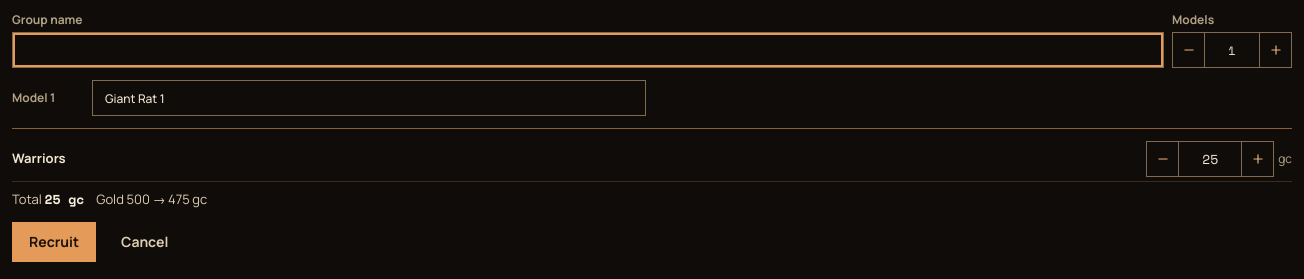
Test case: Naming a group's models as it is recruited from the list › starts a creature's models on its name and number, each still editable
Later steps or results of the test are not shown.
What coordinates should you click on to do the following:
click the button named "More"
I would click on:
 (1276, 50)
Its box is [1260, 32, 1292, 68].
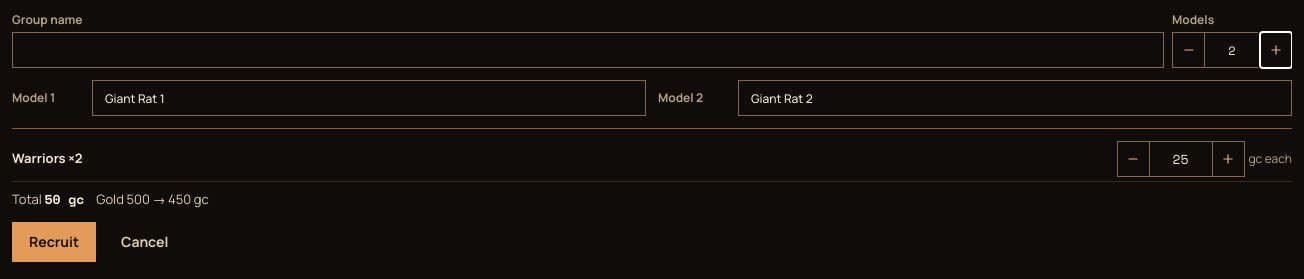
Check: the field labelled "Model 2" holds "Giant Rat 2", box [738, 80, 1292, 116]
